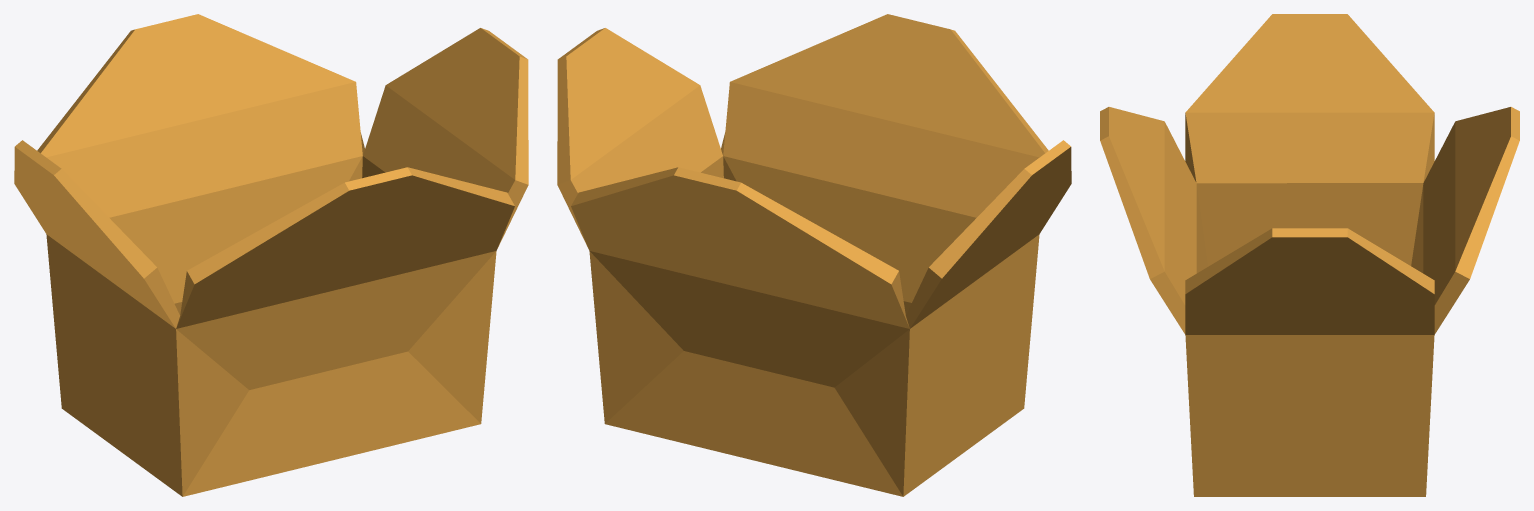
Rendered from food-container-take-empty.glb.
3 renders of one model, left to right at view 1: azimuth 30°, elevation 25°; view 2: azimuth 150°, elevation 25°; view 3: azimuth 270°, elevation 25°, orthographic. The views are drawn at different scales.
Visible parts, largest first — view 1: container-take-empty; view 2: container-take-empty; view 3: container-take-empty.
Part boxes in pixels (x1=…): container-take-empty: x1=14, y1=14, x2=528, y2=496; container-take-empty: x1=557, y1=14, x2=1071, y2=496; container-take-empty: x1=1100, y1=14, x2=1519, y2=496.
Size of the model in its own units: 0.2775 by 0.178 by 0.2214.
